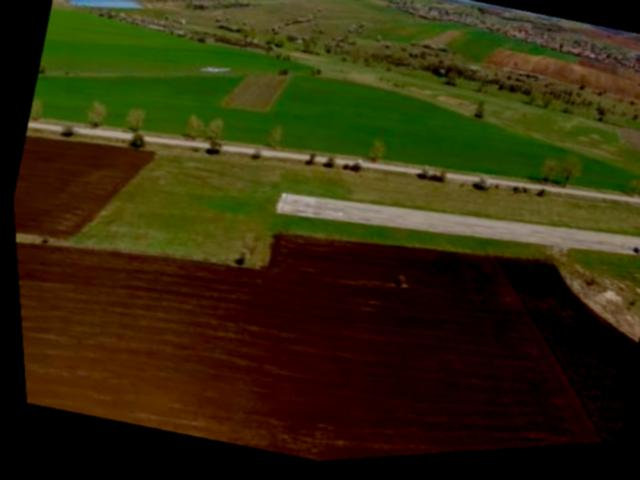uav: (191, 52, 235, 88)
